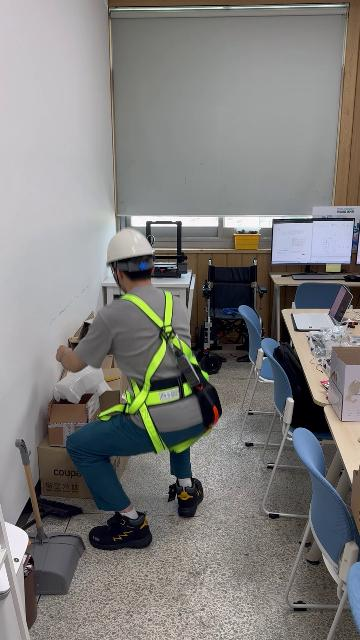helmet_worn: (105, 226, 156, 267)
shoe_worn: (88, 509, 152, 550), (168, 477, 203, 516)
vest_worn: (99, 293, 210, 449)
